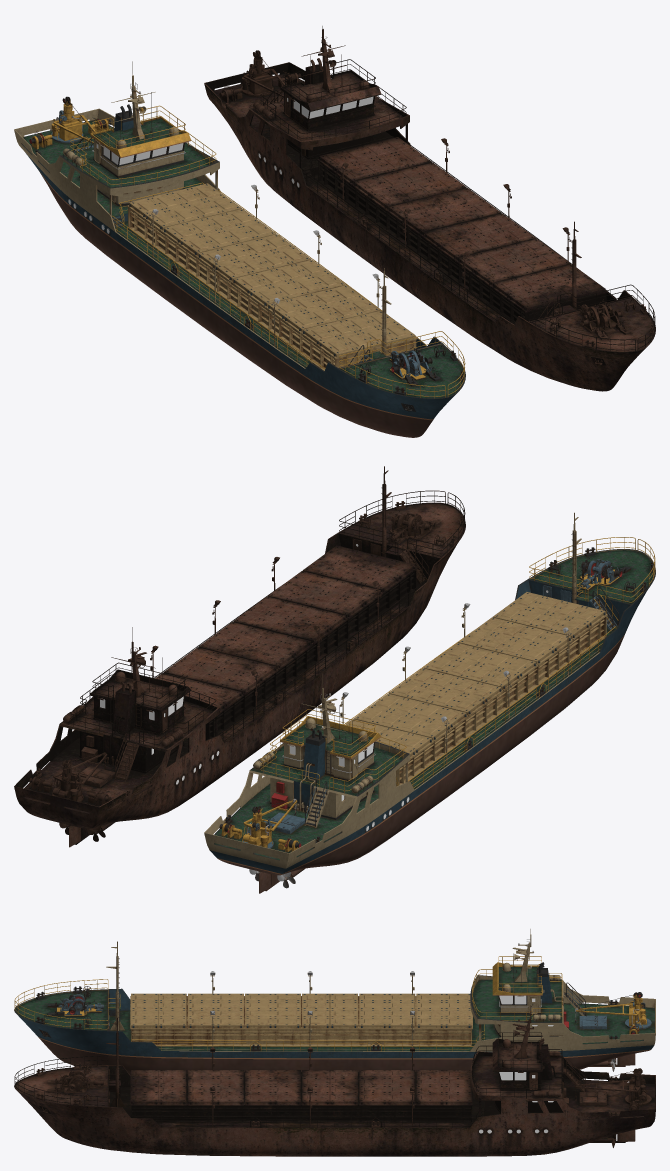
The picture shows the model from 3 angles, top to bottom: view 1: azimuth 30°, elevation 25°; view 2: azimuth 150°, elevation 25°; view 3: azimuth 270°, elevation 25°; orthographic projection. The views are drawn at different scales.
Visible parts, largest first — view 1: vessel60 rusted, vessel60; view 2: vessel60, vessel60 rusted; view 3: vessel60 rusted, vessel60.
Boxes of the visible parts, x1=… form: vessel60 rusted: x1=204, y1=26, x2=655, y2=391; vessel60: x1=14, y1=61, x2=465, y2=437; vessel60: x1=204, y1=512, x2=655, y2=893; vessel60 rusted: x1=14, y1=466, x2=465, y2=847; vessel60 rusted: x1=14, y1=1005, x2=655, y2=1156; vessel60: x1=14, y1=929, x2=655, y2=1075.
Bounding box in the file's own units: 28.81 × 16.12 × 64.93.
Materials: 5 (4 with a texture image).
